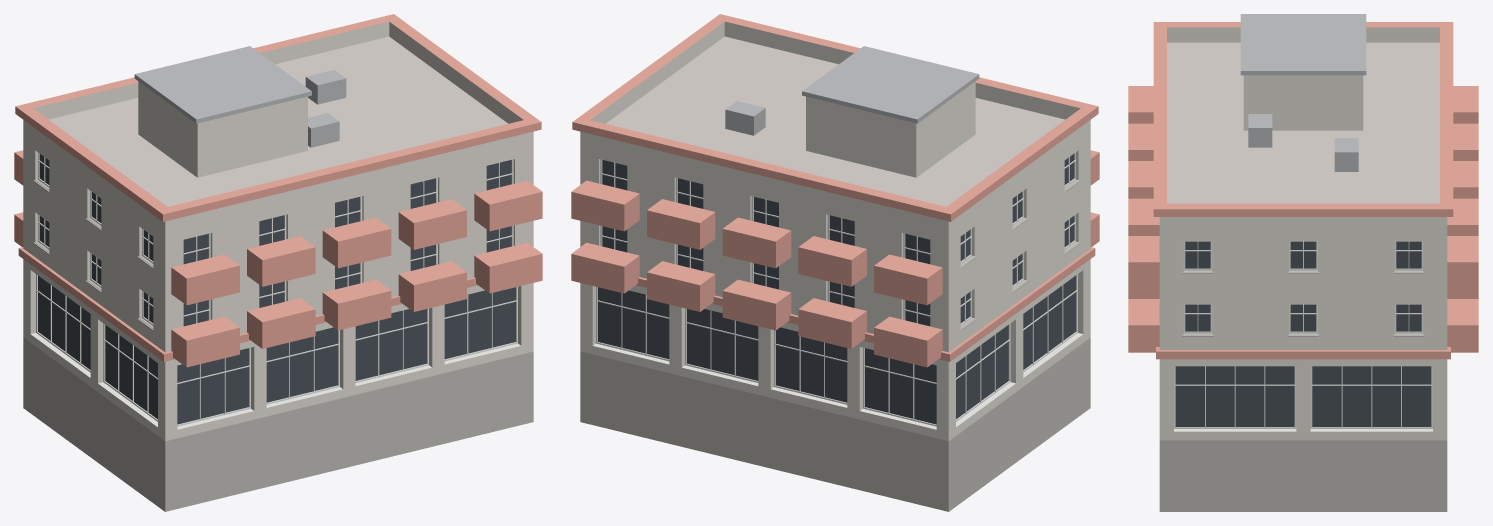
Rendered from hotel_3_m.glb.
The picture shows the model from 3 angles, left to right: view 1: azimuth 30°, elevation 25°; view 2: azimuth 150°, elevation 25°; view 3: azimuth 270°, elevation 25°; orthographic projection.
Visible parts, largest first — view 1: hotel_3_m; view 2: hotel_3_m; view 3: hotel_3_m.
Boxes of the visible parts, bbox=[...] form: hotel_3_m: bbox=[14, 14, 542, 511]; hotel_3_m: bbox=[571, 14, 1099, 511]; hotel_3_m: bbox=[1128, 14, 1478, 511].
Bounding box in the file's own units: 18.5 × 16.15 × 14.6.
